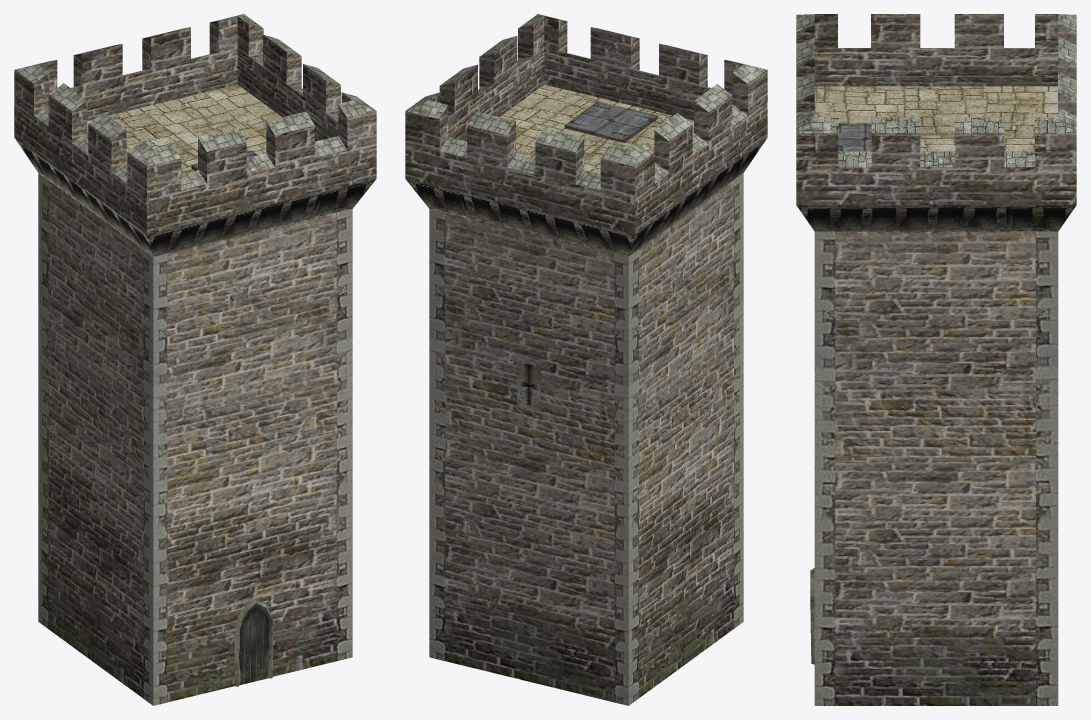
File: building_tower_square.glb
3 views of the same model, side by side, from view 1: azimuth 30°, elevation 25°; view 2: azimuth 150°, elevation 25°; view 3: azimuth 270°, elevation 25° (orthographic). The views are drawn at different scales.
Parts seen in each view (by area): view 1: building_tower_square; view 2: building_tower_square; view 3: building_tower_square.
Boxes of the visible parts, box(x1,y1,x2,y2) form: building_tower_square: box(14, 14, 376, 705); building_tower_square: box(405, 14, 767, 705); building_tower_square: box(796, 14, 1076, 705).
Size of the model in its own units: 7.09 by 16.42 by 7.08.
4 materials, 4 textured.
